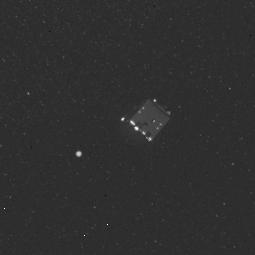proba_3_ocs: (111, 90, 182, 147)
